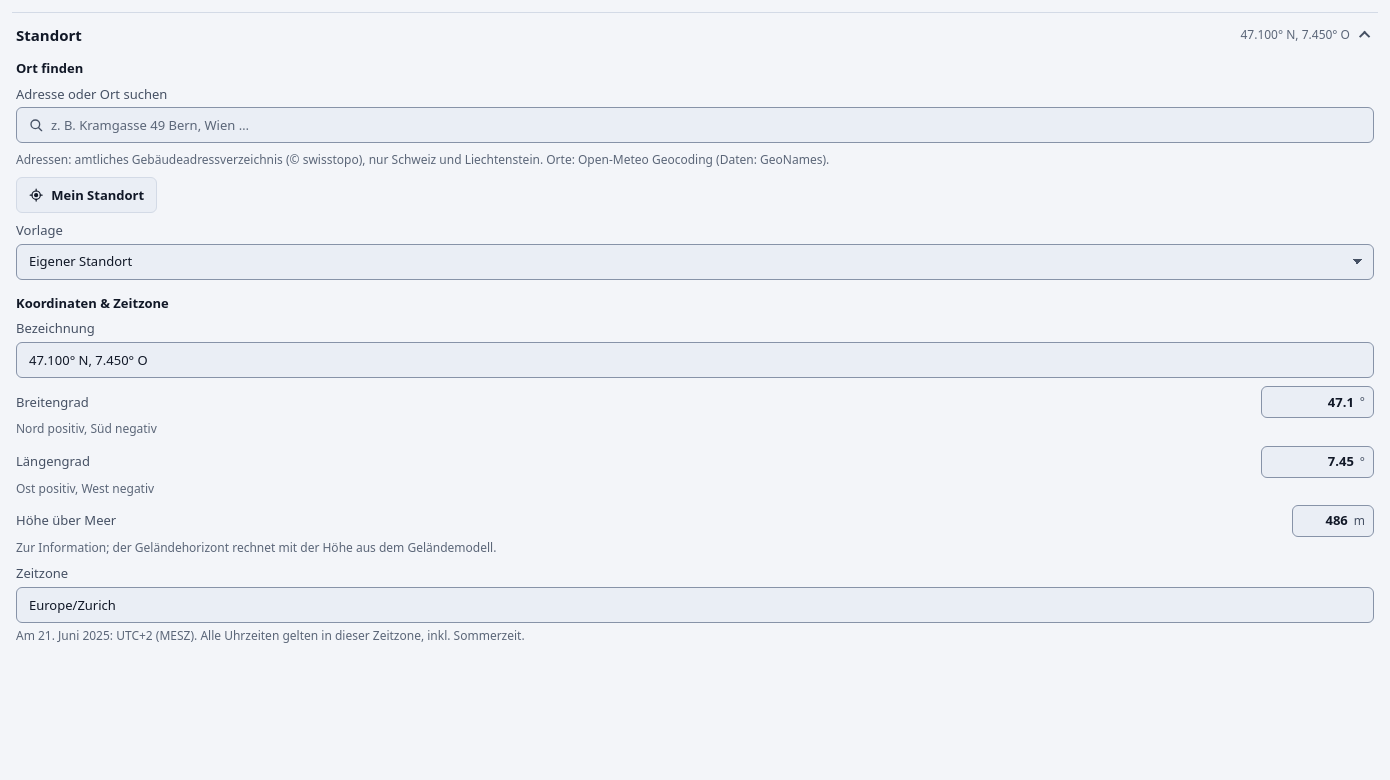
Test case: LocationSection › my location › offers the nearest address of the device position
Expected: the button "Nächste Adresse übernehmen" is not shown
Click the button "Mein Standort" at point(87, 195), box [16,177,157,213]
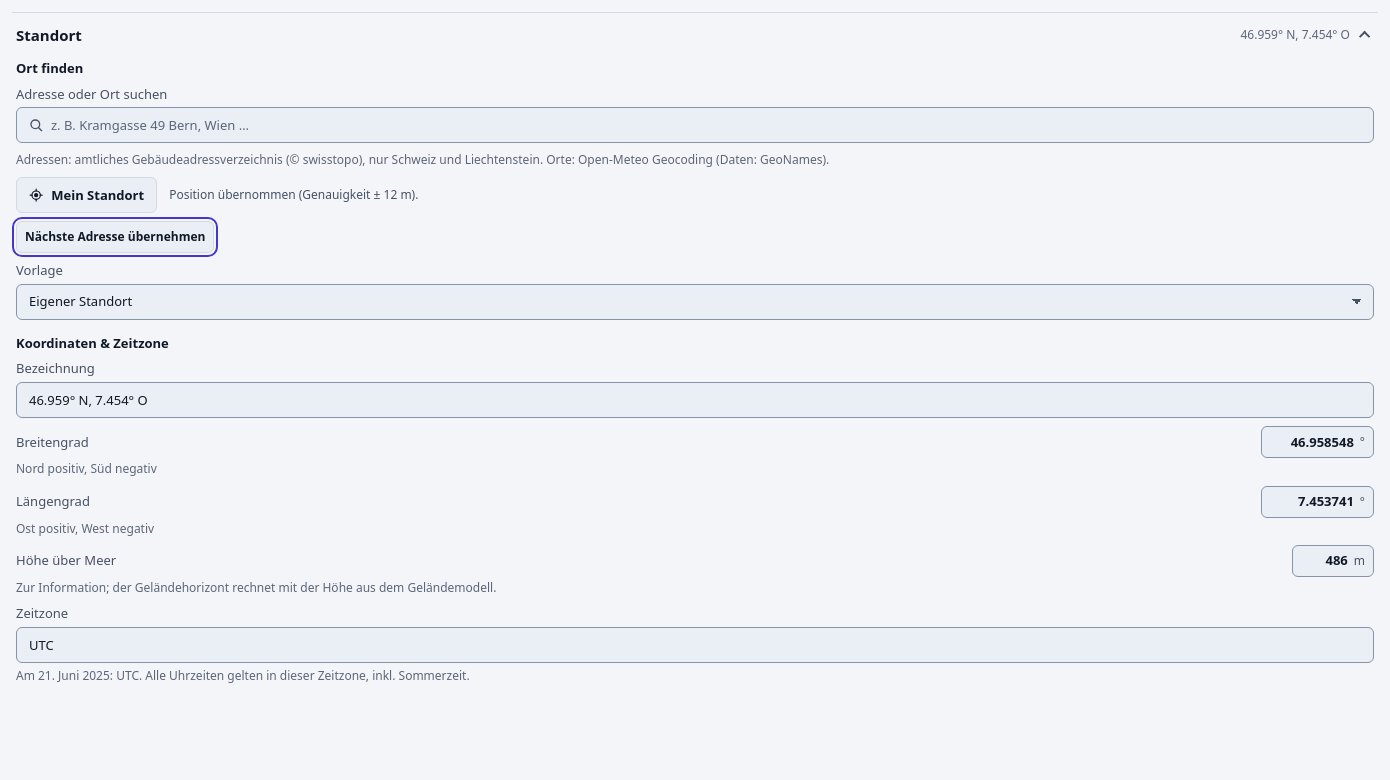
Click the button "Nächste Adresse übernehmen" at point(115, 237), box [16,221,214,253]
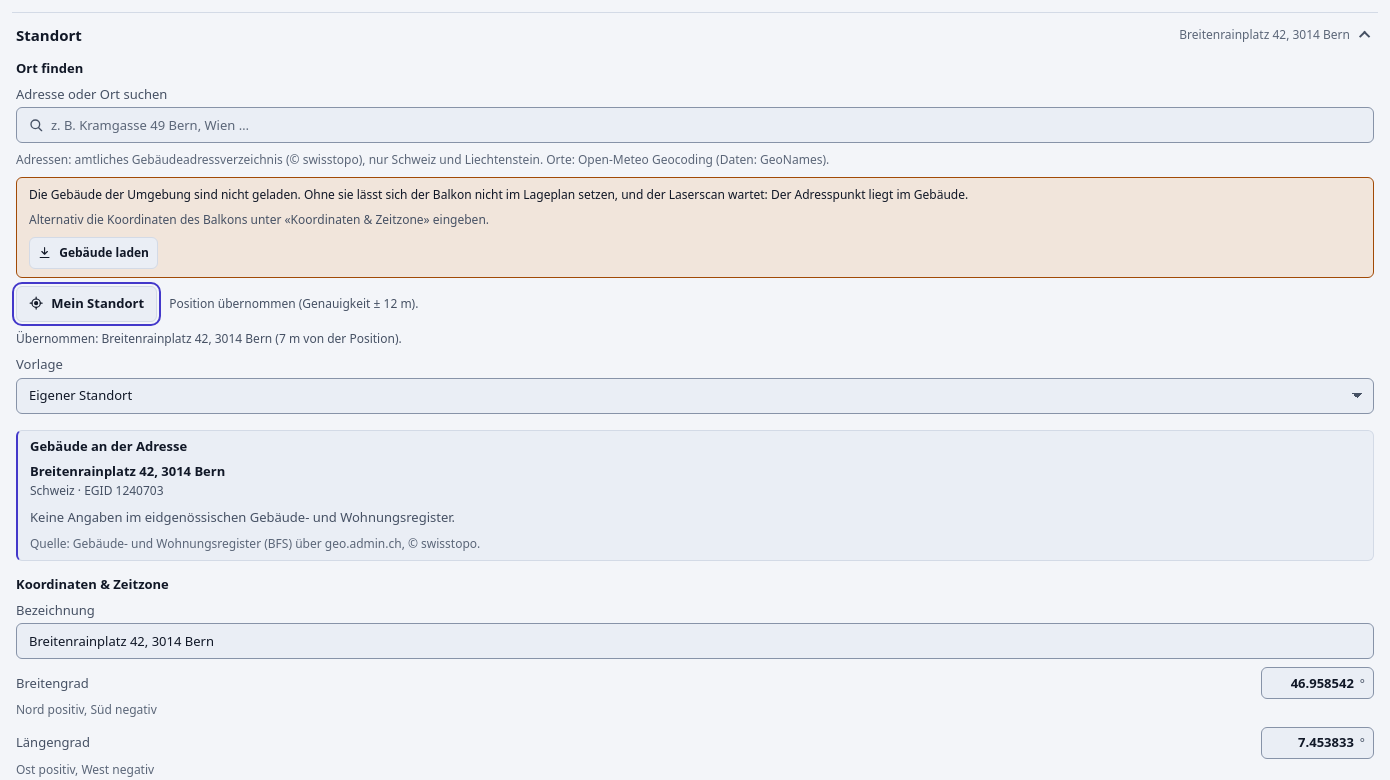
Now the text "Übernommen: Breitenrainplatz 42, 3014 Bern (7 m von der Position)." is shown, box [16,330,402,347]
Now the button "Nächste Adresse übernehmen" is gone
